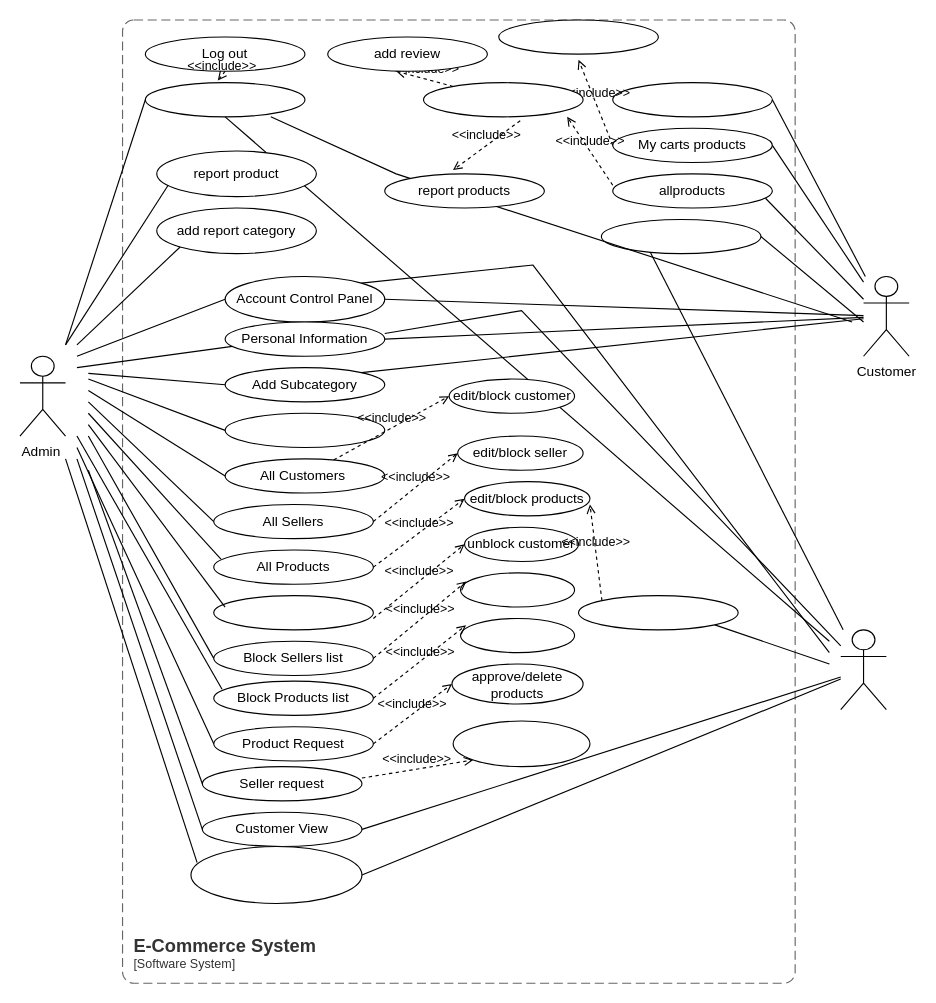
Some shapes in this 936 by 1003 pixel diagram are drawn without their labels. The shapes that lost their labels are listed below. From the top down, each one's centre as x and y in pixels, then its label:
At [578,36]: "card/cash payment".
At [224,99]: "Log in".
At [502,99]: "single products".
At [692,99]: "My all Orders".
At [680,236]: "Registration".
At [304,429]: "Add Brand".
At [517,589]: "unblock seller".
At [293,612]: "Block Customers list".
At [657,612]: "Add Products".
At [517,635]: "unblock products".
At [863,669]: "Seller".
At [521,743]: "approve/delete seller".
At [276,874]: "Account Newsletter and other".
